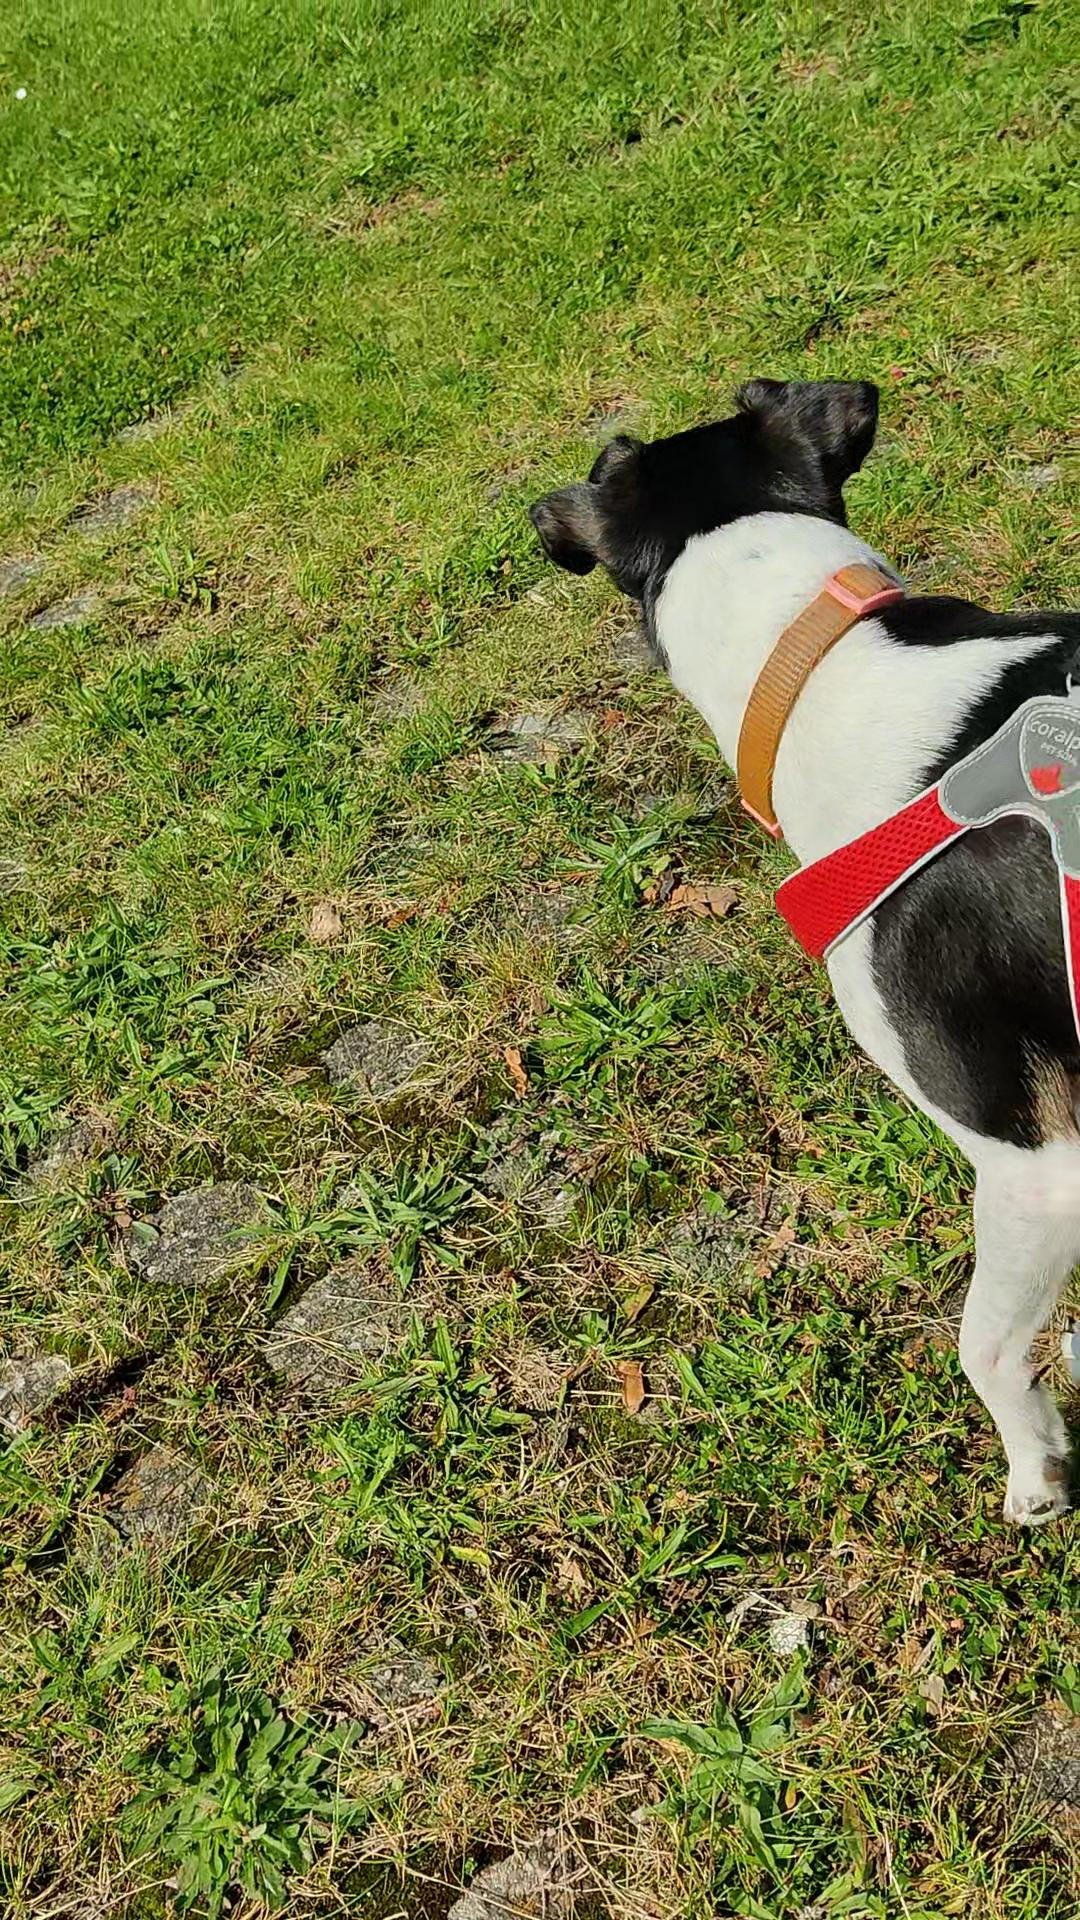Dog: (521, 351, 1079, 1561)
